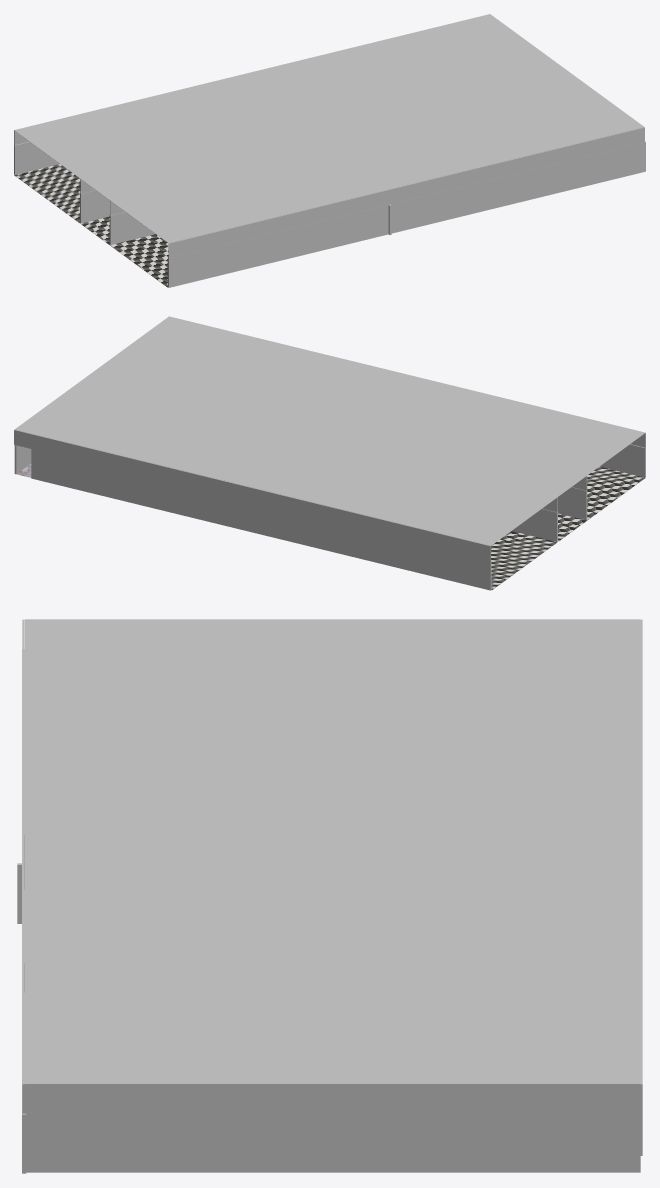
The model's file is MAP-2.fbx.
3 views of the same model, one above another, from view 1: azimuth 30°, elevation 25°; view 2: azimuth 150°, elevation 25°; view 3: azimuth 270°, elevation 25° (orthographic). The views are drawn at different scales.
Parts seen in each view (by area): view 1: C2.001, COIN.008, TopW2, F2.001; view 2: C2.001, COIN.008, TopW2, F2.001; view 3: C2.001, COIN.008, TopW2.
Boxes of the visible parts, left/top/right/bottom form: C2.001: left=14, top=14, right=643, bottom=243; COIN.008: left=14, top=141, right=645, bottom=287; TopW2: left=14, top=14, right=644, bottom=258; F2.001: left=14, top=164, right=168, bottom=287; C2.001: left=15, top=316, right=644, bottom=545; COIN.008: left=14, top=444, right=645, bottom=590; TopW2: left=14, top=316, right=645, bottom=560; F2.001: left=17, top=463, right=645, bottom=590; C2.001: left=24, top=619, right=640, bottom=1084; COIN.008: left=17, top=649, right=642, bottom=1173; TopW2: left=22, top=619, right=642, bottom=1113.
Bounding box in the file's own units: 2709 × 1535 × 241.
